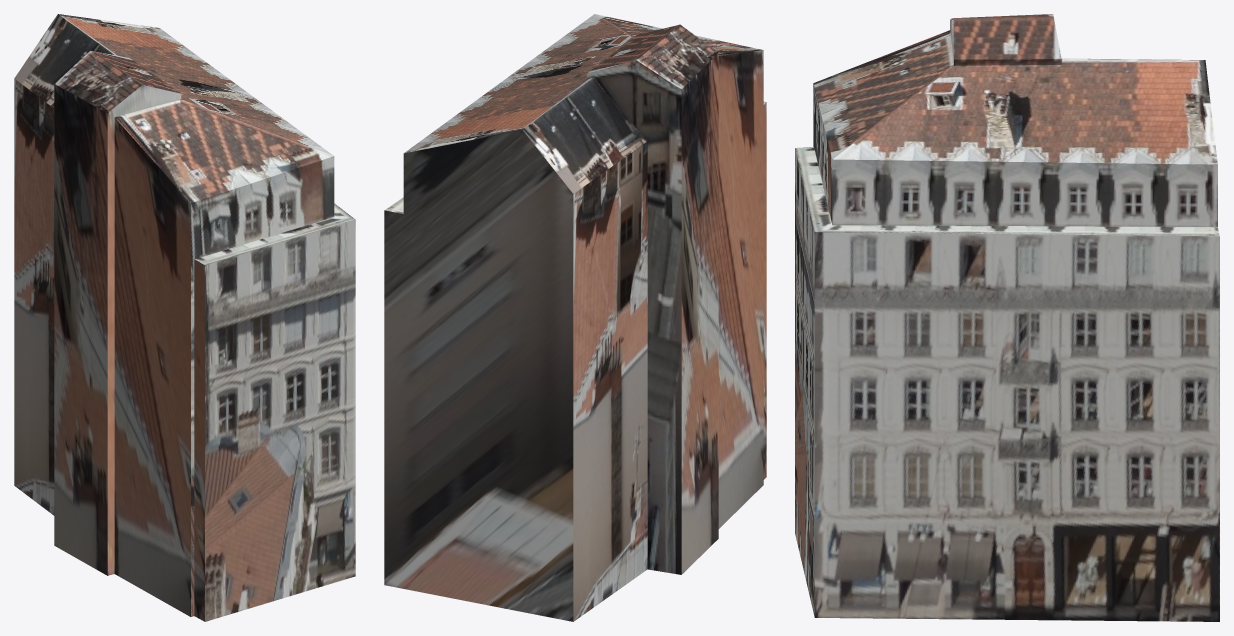
The picture shows the model from 3 angles, left to right: view 1: azimuth 30°, elevation 25°; view 2: azimuth 150°, elevation 25°; view 3: azimuth 270°, elevation 25°; orthographic projection. The views are drawn at different scales.
Visible parts, largest first — view 1: Z_UP; view 2: Z_UP; view 3: Z_UP.
Part boxes in pixels (x1=…): Z_UP: x1=14, y1=14, x2=355, y2=621; Z_UP: x1=384, y1=14, x2=766, y2=621; Z_UP: x1=795, y1=14, x2=1219, y2=621.
Bounding box in the file's own units: 12.05 × 27.49 × 20.27.
2 materials, 1 textured.
